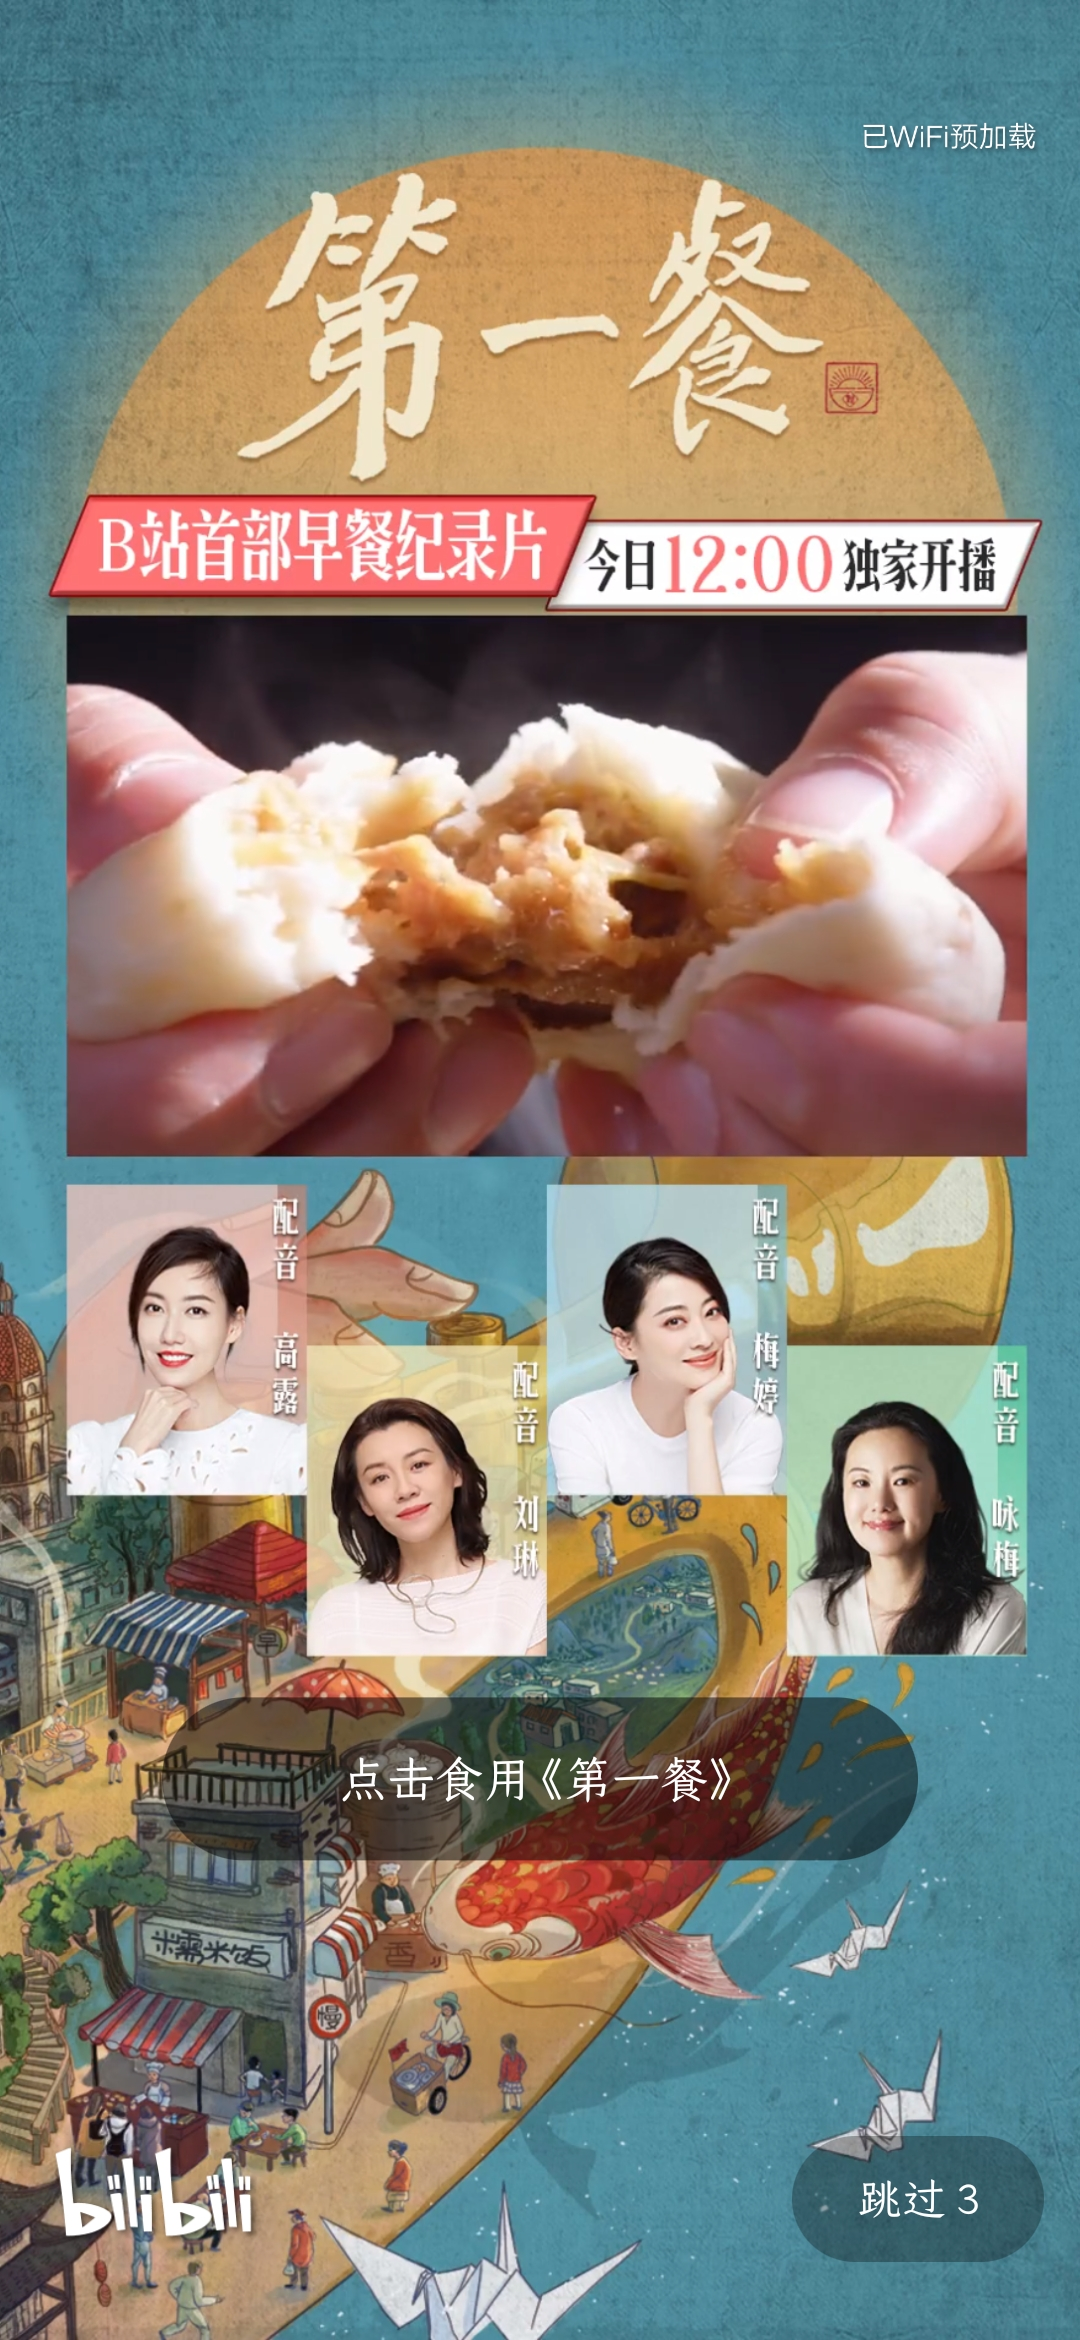skip: (832, 2142, 1011, 2259)
